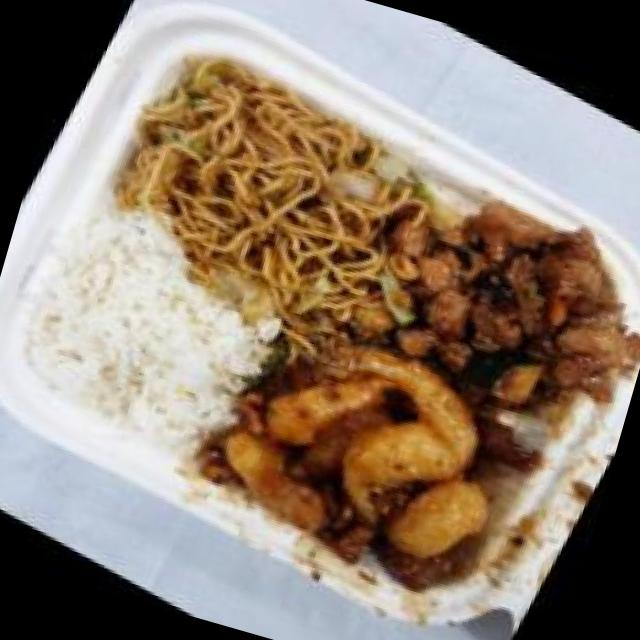Chow Mein: (74, 18, 452, 358)
Honey Walnut Shrimp: (173, 284, 567, 632)
Kung Pao Chicken: (324, 141, 640, 466)
White Steamed Rice: (0, 186, 303, 486)
